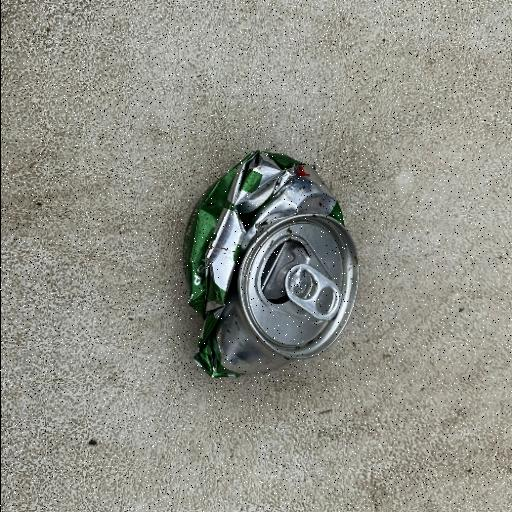Metal: (180, 148, 360, 380)
